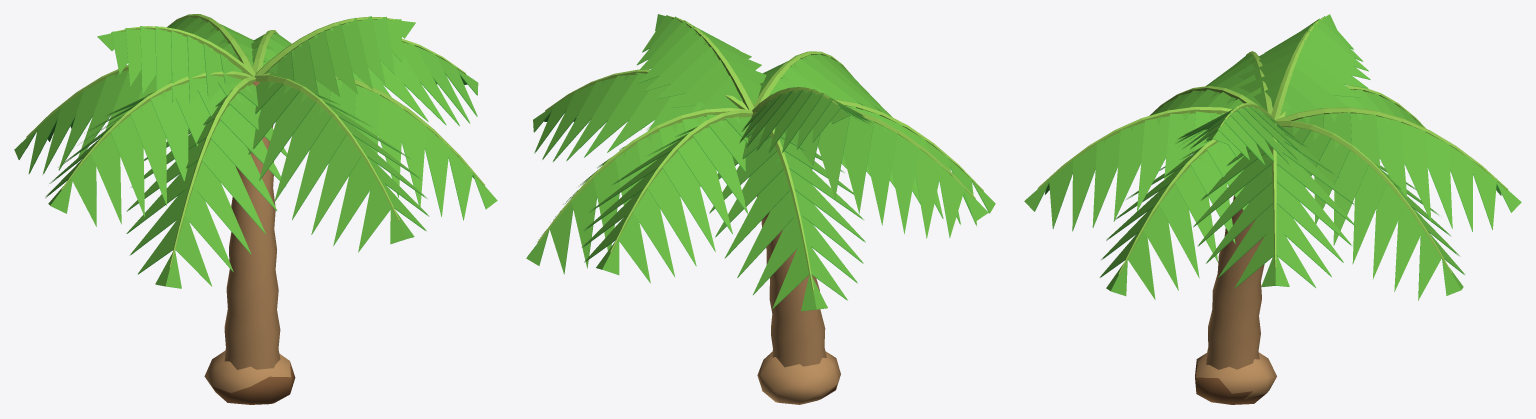
File: palm_small.obj
The picture shows the model from 3 angles, left to right: view 1: azimuth 30°, elevation 25°; view 2: azimuth 150°, elevation 25°; view 3: azimuth 270°, elevation 25°; orthographic projection. The views are drawn at different scales.
Visible parts, largest first — view 1: palm_small_frond_mid, palm_small_trunk, palm_small_frond_light, palm_small_frond_dark, palm_small_trunk_dark; view 2: palm_small_frond_mid, palm_small_trunk, palm_small_frond_light, palm_small_frond_dark; view 3: palm_small_frond_mid, palm_small_trunk, palm_small_frond_light, palm_small_frond_dark, palm_small_trunk_dark.
Part boxes in pixels (bbox=[...]): palm_small_frond_mid: bbox=[14, 16, 497, 288]; palm_small_trunk: bbox=[204, 81, 290, 392]; palm_small_frond_light: bbox=[26, 14, 485, 267]; palm_small_frond_dark: bbox=[19, 25, 485, 288]; palm_small_trunk_dark: bbox=[212, 362, 295, 404]; palm_small_frond_mid: bbox=[526, 14, 995, 310]; palm_small_trunk: bbox=[757, 195, 840, 404]; palm_small_frond_light: bbox=[537, 16, 983, 290]; palm_small_frond_dark: bbox=[534, 48, 989, 311]; palm_small_frond_mid: bbox=[1024, 14, 1521, 300]; palm_small_trunk: bbox=[1195, 195, 1276, 399]; palm_small_frond_light: bbox=[1037, 18, 1508, 274]; palm_small_frond_dark: bbox=[1034, 47, 1511, 300]; palm_small_trunk_dark: bbox=[1195, 359, 1265, 404].
Bounding box in the file's own units: 3.61 × 2.8 × 3.63.
